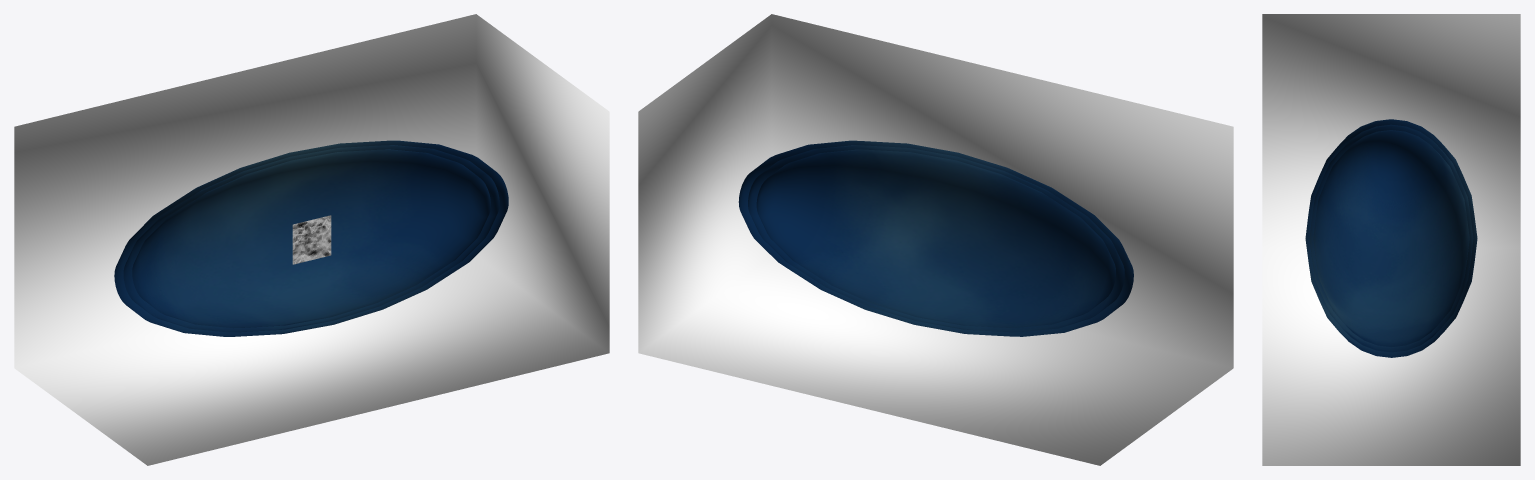
The model's file is model_warp.glb.
3 renders of one model, left to right at view 1: azimuth 30°, elevation 25°; view 2: azimuth 150°, elevation 25°; view 3: azimuth 270°, elevation 25°, orthographic. The views are drawn at different scales.
Visible parts, largest first — view 1: A:\.Yandex.YandexDisk.SK SHARED FILES.Game models.1 Exported (×4), rsrc.particle.mesh.model_billboard-MeshNodes["plane_1unit"]; view 2: A:\.Yandex.YandexDisk.SK SHARED FILES.Game models.1 Exported (×4); view 3: A:\.Yandex.YandexDisk.SK SHARED FILES.Game models.1 Exported (×4).
Boxes of the visible parts, x1=… form: A:\.Yandex.YandexDisk.SK SHARED FILES.Game models.1 Exported (×4): x1=14, y1=14, x2=609, y2=465; rsrc.particle.mesh.model_billboard-MeshNodes["plane_1unit"]: x1=292, y1=215, x2=331, y2=264; A:\.Yandex.YandexDisk.SK SHARED FILES.Game models.1 Exported (×4): x1=638, y1=14, x2=1233, y2=465; A:\.Yandex.YandexDisk.SK SHARED FILES.Game models.1 Exported (×4): x1=1262, y1=14, x2=1520, y2=465.
Bounding box in the file's own units: 12 × 6 × 6.
Materials: 3 (2 with a texture image).
